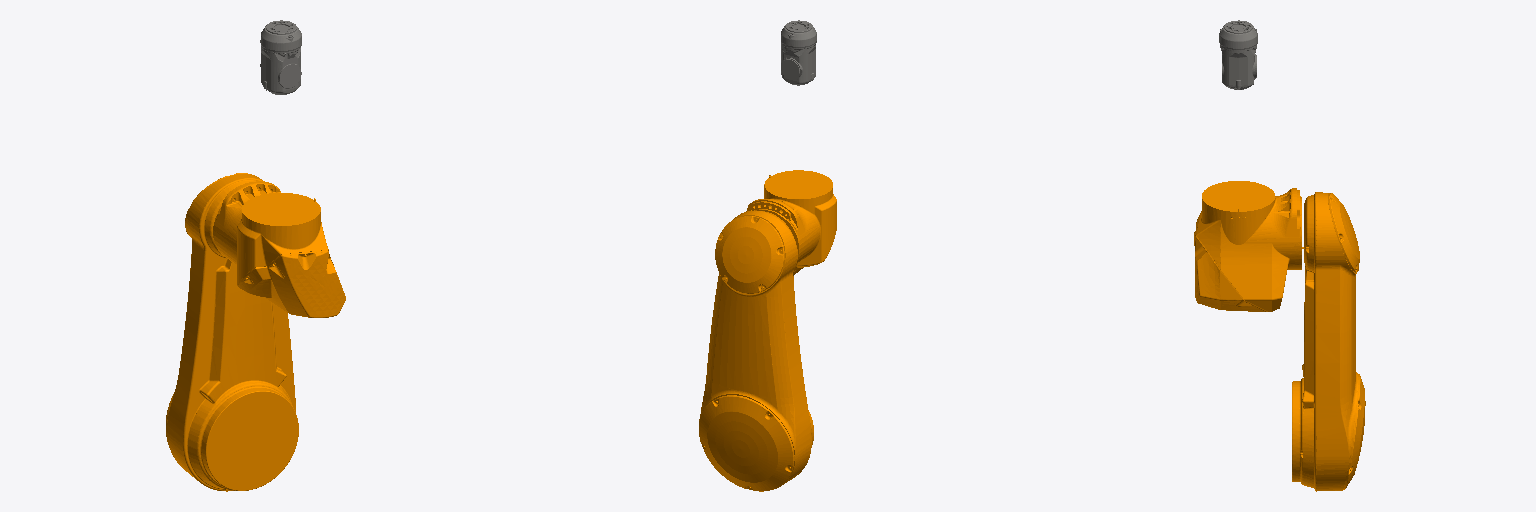
robot.urdf — staubli_tx200:
<?xml version="1.0" ?>
<!-- =================================================================================== -->
<!-- |    This document was autogenerated by xacro from /home/ros2/ros2_ws_robots/src/staubli_experimental/staubli_tx200_support/urdf/tx200.xacro | -->
<!-- |    EDITING THIS FILE BY HAND IS NOT RECOMMENDED                                 | -->
<!-- =================================================================================== -->
<robot name="staubli_tx200">
  <!-- colours based on RAL values supplied by Staubli -->
  <!-- all RAL colours converted using http://www.visual-graphics.de/en/customer-care/ral-colours -->
  <!-- default colours for robots -->
  <!-- links: main serial chain -->
  <link name="base_link">
    <visual>
      <origin rpy="0 0 0" xyz="0 0 0"/>
      <geometry>
        <mesh filename="package://staubli_tx200_support/meshes/tx200/visual/base_link.STL"/>
      </geometry>
      <material name="">
        <color rgba="1.0 0.6078431372549019 0.0 1.0"/>
      </material>
    </visual>
    <collision>
      <origin rpy="0 0 0" xyz="0 0 0"/>
      <geometry>
        <mesh filename="package://staubli_tx200_support/meshes/tx200/collision/base_link.obj"/>
      </geometry>
    </collision>
  </link>
  <link name="link_1">
    <visual>
      <origin rpy="0 0 0" xyz="0 0 0"/>
      <geometry>
        <mesh filename="package://staubli_tx200_support/meshes/tx200/visual/link1.STL"/>
      </geometry>
      <material name="">
        <color rgba="1.0 0.6078431372549019 0.0 1.0"/>
      </material>
    </visual>
    <collision>
      <origin rpy="0 0 0" xyz="0 0 0"/>
      <geometry>
        <mesh filename="package://staubli_tx200_support/meshes/tx200/collision/link1.obj"/>
      </geometry>
    </collision>
  </link>
  <link name="link_2">
    <visual>
      <origin rpy="1.5707963267948966 -1.5707963267948966 0" xyz="0 0 0"/>
      <geometry>
        <mesh filename="package://staubli_tx200_support/meshes/tx200/visual/link2.STL"/>
      </geometry>
      <material name="">
        <color rgba="1.0 0.6078431372549019 0.0 1.0"/>
      </material>
    </visual>
    <collision>
      <origin rpy="1.5707963267948966 -1.5707963267948966 0" xyz="0 0 0"/>
      <geometry>
        <mesh filename="package://staubli_tx200_support/meshes/tx200/collision/link2.obj"/>
      </geometry>
    </collision>
  </link>
  <link name="link_3">
    <visual>
      <origin rpy="-1.5707963267948966 0 0" xyz="0 0 0"/>
      <geometry>
        <mesh filename="package://staubli_tx200_support/meshes/tx200/visual/link3.STL"/>
      </geometry>
      <material name="">
        <color rgba="1.0 0.6078431372549019 0.0 1.0"/>
      </material>
    </visual>
    <collision>
      <origin rpy="-1.5707963267948966 0 0" xyz="0 0 0"/>
      <geometry>
        <mesh filename="package://staubli_tx200_support/meshes/tx200/collision/link3.obj"/>
      </geometry>
    </collision>
  </link>
  <link name="link_4">
    <visual>
      <origin rpy="0 0 0" xyz="0 0 0"/>
      <geometry>
        <mesh filename="package://staubli_tx200_support/meshes/tx200/visual/link4.STL"/>
      </geometry>
      <material name="">
        <color rgba="1.0 0.6078431372549019 0.0 1.0"/>
      </material>
    </visual>
    <collision>
      <origin rpy="0 0 0" xyz="0 0 0"/>
      <geometry>
        <mesh filename="package://staubli_tx200_support/meshes/tx200/collision/link4.obj"/>
      </geometry>
    </collision>
  </link>
  <link name="link_5">
    <visual>
      <origin rpy="-1.5707963267948966 0 0" xyz="0 0 0"/>
      <geometry>
        <mesh filename="package://staubli_tx200_support/meshes/tx200/visual/link5.STL"/>
      </geometry>
      <material name="">
        <color rgba="0.5294117647058824 0.5215686274509804 0.5058823529411764 1.0"/>
      </material>
    </visual>
    <collision>
      <origin rpy="-1.5707963267948966 0 0" xyz="0 0 0"/>
      <geometry>
        <mesh filename="package://staubli_tx200_support/meshes/tx200/collision/link5.obj"/>
      </geometry>
    </collision>
  </link>
  <link name="link_6">
    <visual>
      <origin rpy="0 0 0" xyz="0 0 0"/>
      <geometry>
        <mesh filename="package://staubli_tx200_support/meshes/tx200/visual/link6.STL"/>
      </geometry>
      <material name="">
        <color rgba="0.5294117647058824 0.5215686274509804 0.5058823529411764 1.0"/>
      </material>
    </visual>
    <collision>
      <origin rpy="0 0 0" xyz="0 0 0"/>
      <geometry>
        <mesh filename="package://staubli_tx200_support/meshes/tx200/collision/link6.obj"/>
      </geometry>
    </collision>
  </link>
  <!-- joints: main serial chain -->
  <joint name="joint_1" type="revolute">
    <origin rpy="0 0 0" xyz="0 0 0"/>
    <parent link="base_link"/>
    <child link="link_1"/>
    <axis xyz="0 0 1"/>
    <!-- from Staubli instruction manual:
      (1) effort limit = 318 Nm if floor mounted
      (2) effort limit = 111 Nm if wall mounted -->
    <limit effort="318.0" lower="-3.141592653589793" upper="3.141592653589793" velocity="6.981317007977318"/>
    <dynamics damping="0.0" friction="0.0"/>
  </joint>
  <joint name="joint_2" type="revolute">
    <origin rpy="0 0 0" xyz="0.250 0 0"/>
    <parent link="link_1"/>
    <child link="link_2"/>
    <axis xyz="0 1 0"/>
    <limit effort="166.0" lower="-2.2689280275926285" upper="2.5743606466916362" velocity="6.981317007977318"/>
    <dynamics damping="0.0" friction="0.0"/>
  </joint>
  <joint name="joint_3" type="revolute">
    <origin rpy="0 0 0" xyz="0 0.0 0.950"/>
    <parent link="link_2"/>
    <child link="link_3"/>
    <axis xyz="0 1 0"/>
    <limit effort="76.0" lower="-2.530727415391778" upper="2.530727415391778" velocity="7.504915783575617"/>
    <dynamics damping="0.0" friction="0.0"/>
  </joint>
  <joint name="joint_4" type="revolute">
    <origin rpy="0 0 0" xyz="0 0 0.800"/>
    <parent link="link_3"/>
    <child link="link_4"/>
    <axis xyz="0 0 1"/>
    <limit effort="34.0" lower="-4.71238898038469" upper="4.71238898038469" velocity="9.42477796076938"/>
    <dynamics damping="0.0" friction="0.0"/>
  </joint>
  <joint name="joint_5" type="revolute">
    <origin rpy="0 0 0" xyz="0 0 0"/>
    <parent link="link_4"/>
    <child link="link_5"/>
    <axis xyz="0 1 0"/>
    <limit effort="29.0" lower="-2.007128639793479" upper="2.443460952792061" velocity="8.290313946973065"/>
    <dynamics damping="0.0" friction="0.0"/>
  </joint>
  <joint name="joint_6" type="revolute">
    <origin rpy="0 0 0" xyz="0 0 0.190"/>
    <parent link="link_5"/>
    <child link="link_6"/>
    <axis xyz="0 0 1"/>
    <limit effort="11.0" lower="-4.71238898038469" upper="4.71238898038469" velocity="13.264502315156905"/>
    <dynamics damping="0.0" friction="0.0"/>
  </joint>
  <!-- ROS-Industrial 'base' frame: base_link to Staubli World Coordinates transform -->
  <link name="base"/>
  <joint name="base_link-base" type="fixed">
    <origin rpy="0 0 0" xyz="0 0 -0.642"/>
    <parent link="base_link"/>
    <child link="base"/>
  </joint>
  <!-- ROS-Industrial 'flange' frame: attachment point for EEF models -->
  <!-- <link name="${prefix}flange" />
    <joint name="${prefix}joint_6-flange" type="fixed">
      <origin xyz="0 0 0" rpy="0 ${radians(-90.0)} 0" />
      <parent link="${prefix}link_6" />
      <child link="${prefix}flange" />
    </joint> -->
  <!-- ROS-Industrial 'tool0' frame: all-zeros tool frame -->
  <!-- <link name="${prefix}tool0" />
    <joint name="${prefix}flange-tool0" type="fixed">
      <origin xyz="0 0 0" rpy="0 ${radians(90.0)} 0" />
      <parent link="${prefix}flange" />
      <child link="${prefix}tool0" />
    </joint> -->
</robot>

--- What the picture shows (computed from the rendered views, not written in the file) ---
The picture shows the robot from 3 angles, left to right: view 1: azimuth 30°, elevation 25°; view 2: azimuth 150°, elevation 25°; view 3: azimuth 270°, elevation 25°; orthographic projection.
Robot: staubli_tx200 — 8 links, 7 joints (6 revolute, 1 fixed); root link base_link; default pose: all joints at 0.
Visible links, largest first — view 1: link_2, link_3, link_5; view 2: link_2, link_3, link_5; view 3: link_2, link_3, link_5.
Boxes of the visible links, x1,y1,x2,y2 form: link_2: (166, 173, 298, 491); link_3: (213, 181, 345, 317); link_5: (260, 25, 301, 94); link_2: (699, 210, 813, 491); link_3: (746, 170, 836, 275); link_5: (781, 24, 816, 85); link_2: (1292, 192, 1365, 491); link_3: (1194, 181, 1304, 311); link_5: (1219, 25, 1257, 89).
Bounding box of the posed robot: 0.5263 × 0.7426 × 2.2 m (x, y, z).
4 mesh visuals loaded from 7 distinct referenced files (4 binary STL); not drawn: 3 (reference not matched to a file when rendering).
